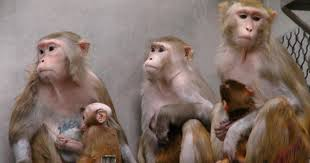monkey: (213, 4, 310, 163), (33, 19, 119, 163), (144, 21, 220, 163)
